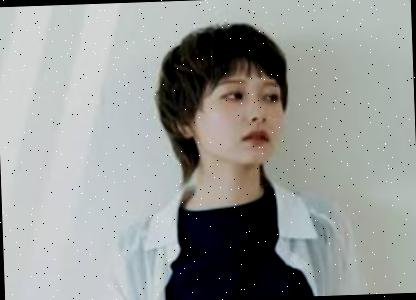person: (94, 11, 373, 300)
